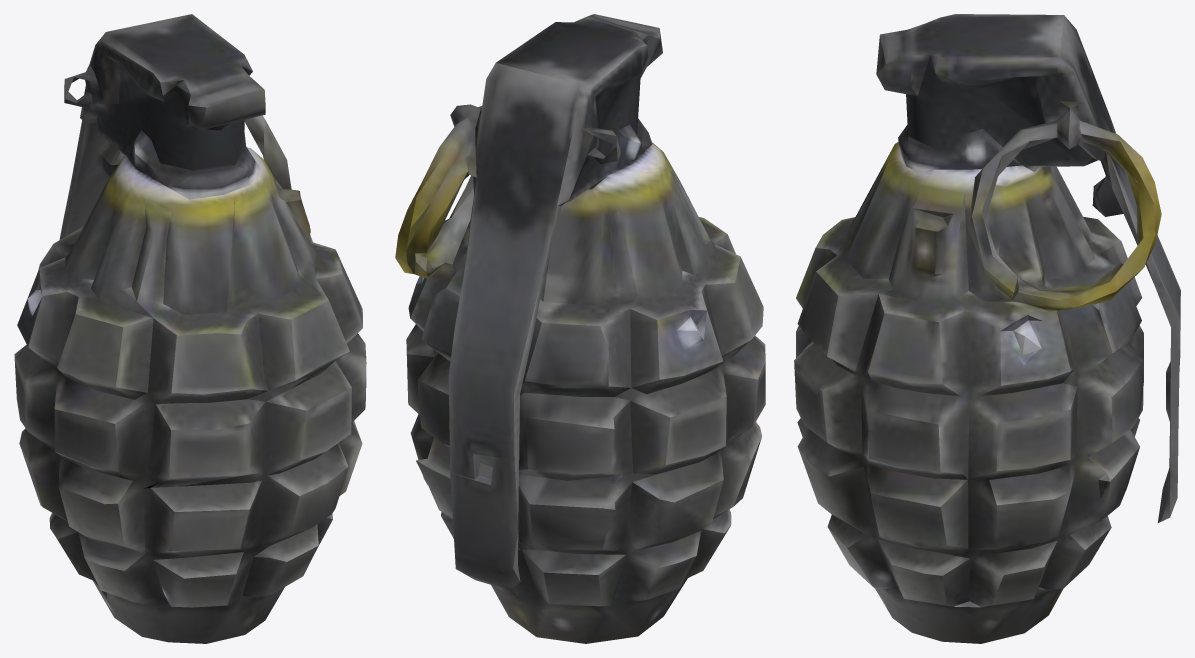
3 renders of one model, left to right at view 1: azimuth 30°, elevation 25°; view 2: azimuth 150°, elevation 25°; view 3: azimuth 270°, elevation 25°, orthographic. The views are drawn at different scales.
Visible parts, largest first — view 1: body; view 2: body; view 3: body.
Boxes of the visible parts, x1=… form: body: x1=14, y1=14, x2=366, y2=643; body: x1=395, y1=14, x2=765, y2=643; body: x1=794, y1=14, x2=1180, y2=643.
Bounding box in the file's own units: 0.1137 × 0.1993 × 0.1213.
1 material, 1 textured.
